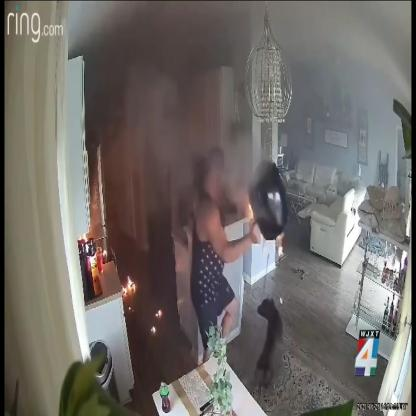fire: (122, 276, 136, 294), (156, 309, 162, 317), (151, 326, 156, 334)
